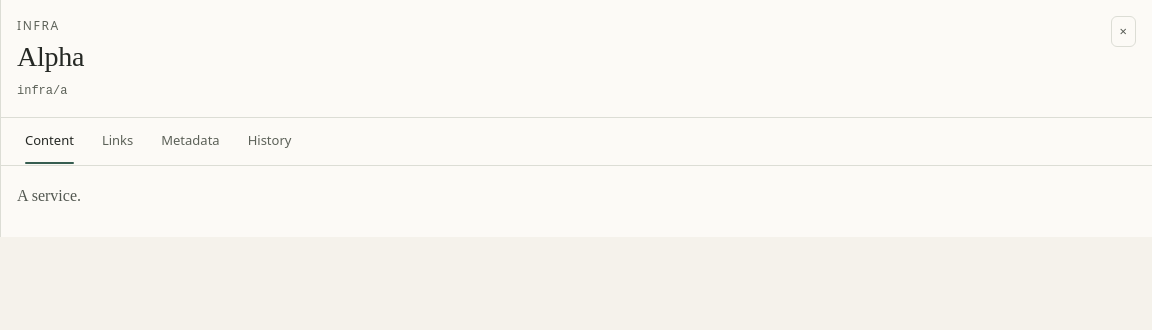
it: the Inspector History tab › requests nothing until the tab is opened, then lists the revisions
What coordinates should you click on to do the following:
click the tab "History"
I would click on:
 (270, 142)
Its box is [236,118,303,165].
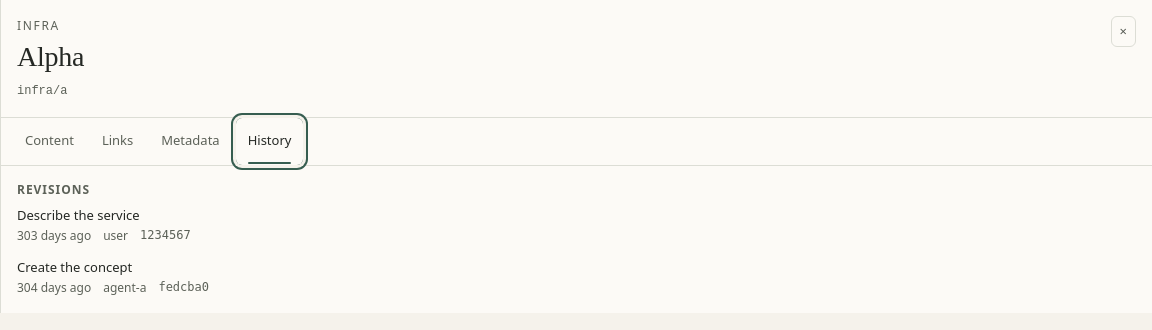
Check: the text "Describe the service" is shown, box [17,206,140,224]
Check: the text "Create the concept" is shown, box [17,258,132,276]
Check: the text "1234567" is shown, box [140,226,191,245]
